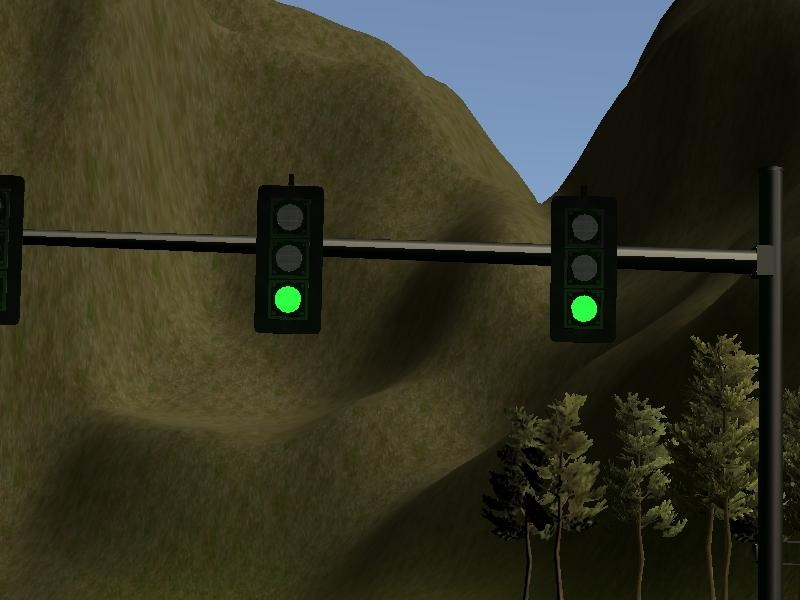GREEN: (552, 195, 619, 342), (258, 185, 323, 332)
